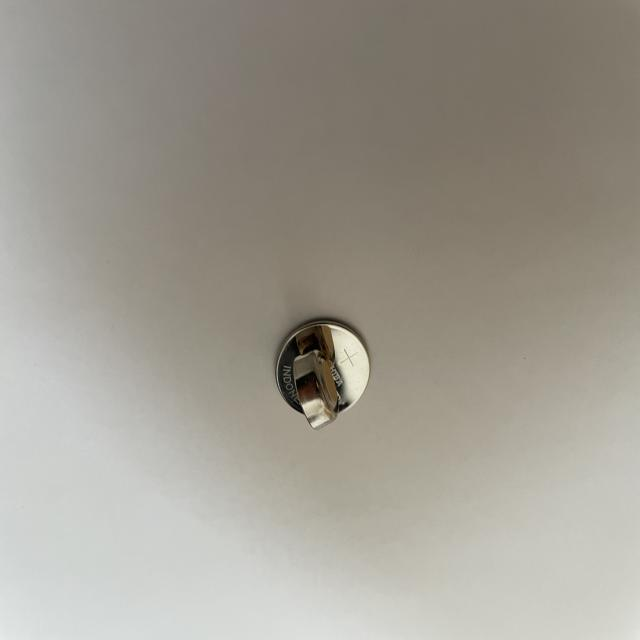COIN: (276, 319, 372, 422), (292, 348, 336, 429)
